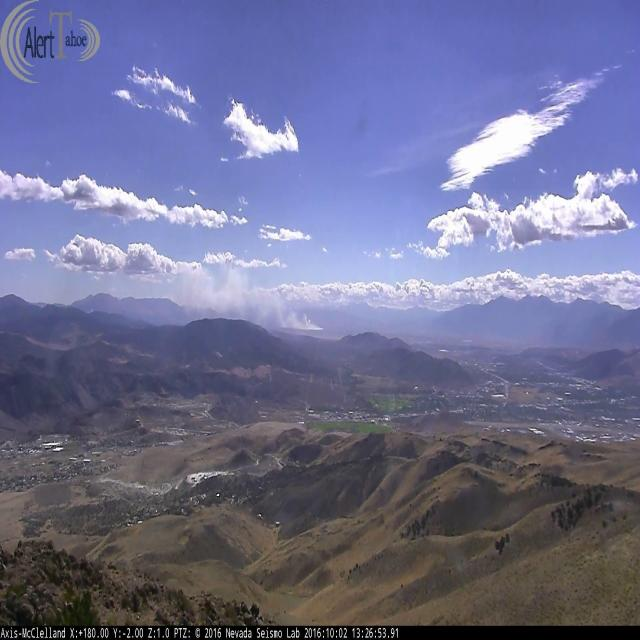smoke: (177, 263, 322, 331)
